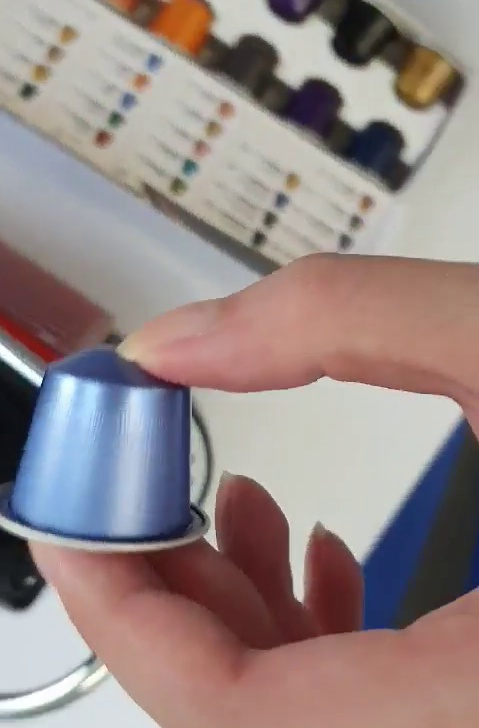capsule_7: (1, 345, 215, 549)
